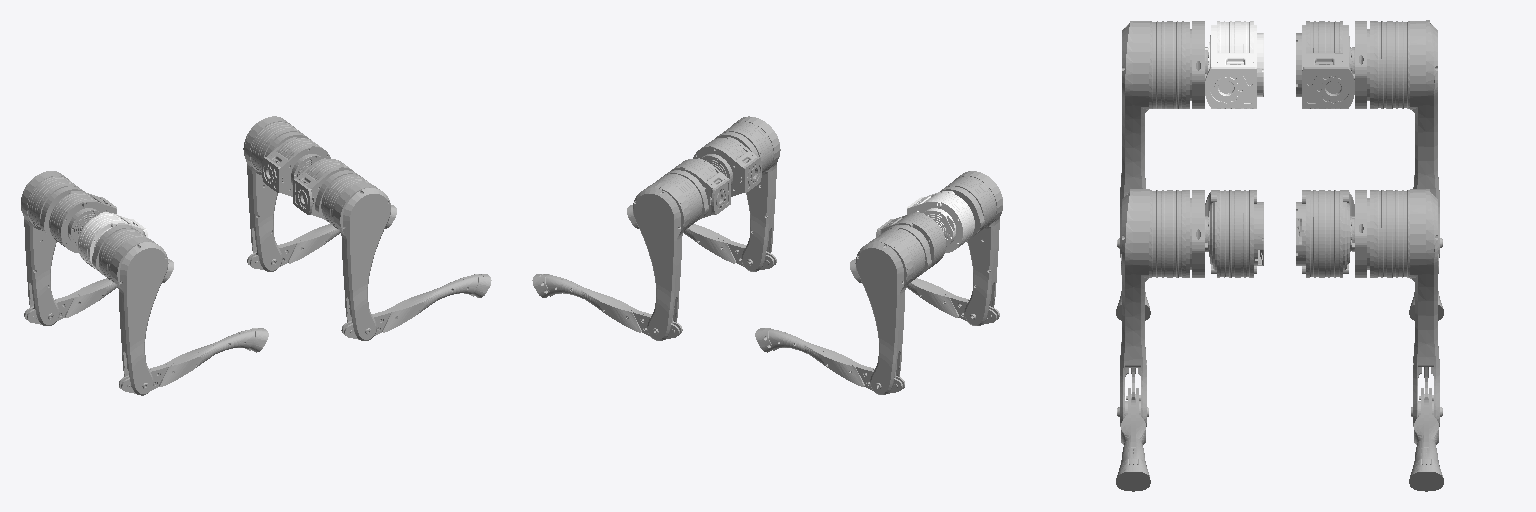
robot.urdf — dog:
<?xml version="1.0" encoding="utf-8"?>
<!-- This URDF was automaticurdf_tutorialy created by SolidWorks to URDF Exporter! Originurdf_tutorialy created by Stephen Brawner ([email redacted]) 
     Commit Version: 1.6.0-4-g7f85cfe  Build Version: 1.6.7995.38578
     For more information, please see http://wiki.ros.org/sw_urdf_exporter -->
<robot
  name="dog">
  <!-- <mujoco>
  <compiler 
    meshdir="[local-path]/isaac/t_s/legged_gym/resources/robots/TOE_dog2/stl" 
    balanceinertia="true" 
    discardvisual="false" />
  </mujoco> -->
  <link
    name="base">
    <inertial>
      <origin
        xyz="9.86379408949578E-05 -0.000228650036753486 -0.00925201672369771"
        rpy="0 0 0" />
      <mass
        value="8.5" />
      <inertia
        ixx="0.09103951" 
        ixy="0.00001899"
        ixz="0.00303368"
        iyy="0.10914641"
        iyz="-0.00001026"
        izz="0.02923472" />
    </inertial>
    <!-- diaginertia="0.109146 0.091188 0.0290862"/> -->
    <visual>
      <origin
        xyz="0 0 0"
        rpy="0 0 0" />
      <geometry>
        <mesh
          filename="../stl/base.STL" />
      </geometry>
      <material
        name="">
        <color
          rgba="0.752941176470588 0.752941176470588 0.752941176470588 1" />
      </material>
    </visual>
    <collision>
      <origin
        xyz="0 0 0"
        rpy="0 0 0" />
      <geometry>
        <box size="0.45 0.12 0.12" />
      </geometry>
    </collision>
  </link>
  <link
    name="FL_hip">
    <inertial>
      <origin
        xyz="-0.00478668991274023 1.90133511636797E-05 0.000220638398559413"
        rpy="0 0 0" />
      <mass
        value="1.06947979" />
      <inertia
        ixx="0.00055425"
        ixy="-0.00000628"
        ixz="0.00000110"
        iyy="0.00061490"
        iyz="-0.00000451"
        izz="0.00060205" />
    </inertial>
    <visual>
      <origin
        xyz="0 0 0"
        rpy="0 0 0" />
      <geometry>
        <mesh
          filename="../stl/FL_hip.STL" />
      </geometry>
      <material
        name="">
        <color
          rgba="0.752941176470588 0.752941176470588 0.752941176470588 1" />
      </material>
    </visual>
    <collision>
      <origin rpy="1.5707963267948966 0 0" xyz="0 0.09 0" />
      <geometry>
        <cylinder length="0.05" radius="0.046" />
      </geometry>
    </collision>
  </link>
  <joint
    name="FL_hip_joint"
    type="revolute">
    <origin
      xyz="0.22337 0.06 0"
      rpy="0 0 0" />
    <parent
      link="base" />
    <child
      link="FL_hip" />
    <axis
      xyz="1 0 0" />
    <limit
      lower="-1.0"
      upper="1.0"
      effort="20."
      velocity="20." />
  </joint>
  <link
    name="FL_thigh">
    <inertial>
      <origin
        xyz="-0.00231149535394877 -0.0259576229949026 -0.0356321982318665"
        rpy="0 0 0" />
      <mass
        value="1.55793203" />
      <inertia
        ixx="0.00598563"
        ixy="-0.00005968"
        ixz="-0.00028819"
        iyy="0.00570709"
        iyz="-0.00101607"
        izz="0.00145163" />
    </inertial>
    <visual>
      <origin
        xyz="0 0 0"
        rpy="0 0 0" />
      <geometry>
        <mesh
          filename="../stl/L_thigh.STL" />
      </geometry>
      <material
        name="">
        <color
          rgba="0.752941176470588 0.752941176470588 0.752941176470588 1" />
      </material>
    </visual>
    <collision>
      <origin rpy="0 1.5707963267948966 0" xyz="0 0 -0.1065" />
      <geometry>
        <box size="0.11 0.0245 0.034" />
      </geometry>
    </collision>
  </link>
  <joint
    name="FL_thigh_joint"
    type="revolute">
    <origin
      xyz="0 0.1039 0"
      rpy="0 0 0" />
    <parent
      link="FL_hip" />
    <child
      link="FL_thigh" />
    <axis
      xyz="0 1 0" />
    <limit
      lower="-1.5"
      upper="2.5"
      effort="30."
      velocity="32.0" />
  </joint>
  <link
    name="FL_calf">
    <inertial>
      <origin
        xyz="0.00602649928091619 -4.97049806039984E-05 -0.101341357290926"
        rpy="0 0 0" />
      <mass
        value="0.25295890" />
      <inertia
        ixx="0.00222364"
        ixy="0.00000006"
        ixz="0.00007904"
        iyy="0.00223396"
        iyz="-0.00000196"
        izz="0.00003386" />
    </inertial>
    <visual>
      <origin
        xyz="0 0 0"
        rpy="0 0 0" />
      <geometry>
        <mesh
          filename="../stl/calf.STL" />
      </geometry>
      <material
        name="">
        <color
          rgba="0.752941176470588 0.752941176470588 0.752941176470588 1" />
      </material>
    </visual>
    <collision>
      <origin rpy="0 -0.1 0" xyz="0.008 0 -0.08" />
      <geometry>
        <cylinder length="0.16" radius="0.0115" />
      </geometry>
    </collision>
  </link>
  <joint
    name="FL_calf_joint"
    type="revolute">
    <origin
      xyz="0 0 -0.22"
      rpy="0 0 0" />
    <parent
      link="FL_thigh" />
    <child
      link="FL_calf" />
    <axis
      xyz="0 1 0" />
    <limit
      lower="-2.5"
      upper="-0.85"
      effort="35."
      velocity="32.0" />
  </joint>
  <link
    name="FL_calflower">
    <collision>
      <origin rpy="0 -0.28  0" xyz="0 0 0.006" />
      <geometry>
        <cylinder length="0.05" radius="0.011" />
      </geometry>
    </collision>
  </link>
  <joint
    name="FL_calflower_joint"
    type="fixed">
    <origin
      xyz="0.016 0 -0.19"
      rpy="0 0.20787 0" />
    <parent
      link="FL_calf" />
    <child
      link="FL_calflower" />
    <axis
      xyz="0 0 0" />
  </joint>
  <link
    name="FL_calflower1">
    <collision>
      <origin rpy="0 0 0" xyz="0 0 0" />
      <geometry>
        <cylinder length="0.032" radius="0.0155" />
      </geometry>
    </collision>
  </link>
  <joint
    name="FL_calflower1_joint"
    type="fixed">
    <origin
      xyz="0 0 -0.03"
      rpy="0 0.2 0" />
    <parent
      link="FL_calflower" />
    <child
      link="FL_calflower1" />
    <axis
      xyz="0 0 0" />
  </joint>
  <link
    name="FL_foot">
    <inertial>
      <origin
        xyz="0 0 0"
        rpy="0 0 0" />
      <mass
        value="0.04" />
      <inertia
        ixx="9.6e-06"
        ixy="0"
        ixz="0"
        iyy="9.6e-06"
        iyz="0"
        izz="9.6e-06" />
    </inertial>
    <visual>
      <origin
        xyz="0 0 0"
        rpy="0 0 0" />
      <geometry>
        <mesh
          filename="../stl/foot.stl" />
      </geometry>
      <material
        name="">
        <color
          rgba="1 1 1 1" />
      </material>
    </visual>
    <collision>
      <origin rpy="0 0 0" xyz="-0.002 0 0" />
      <geometry>
       <sphere radius="0.022" />
      </geometry>
    </collision>
  </link>
  <joint
    name="FL_foot_joint"
    type="fixed"  dont_collapse="true">
    <origin
      xyz="0 0 -0.24"
      rpy="0 0 0" />
    <parent
      link="FL_calf" />
    <child
      link="FL_foot" />
    <axis
      xyz="0 0 0" />
  </joint>
  <link
    name="FR_hip">
    <inertial>
      <origin
        xyz="0 0 0"
        rpy="0 0 0" />
      <mass
        value="1.06947979" />
      <inertia
        ixx="0.00055425"
        ixy="0.00000628"
        ixz="-0.00000110"
        iyy="0.00061490"
        iyz="-0.00000451"
        izz="0.00060205" />
    </inertial>
    <visual>
      <origin
        xyz="0 0 0"
        rpy="0 0 0" />
      <geometry>
        <mesh
          filename="../stl/FR_hip.STL" />
      </geometry>
      <material
        name="">
        <color
          rgba="0.752941176470588 0.752941176470588 0.752941176470588 1" />
      </material>
    </visual>
    <collision>
      <origin rpy="1.5707963267948966 0 0" xyz="0 -0.09 0" />
      <geometry>
        <cylinder length="0.05" radius="0.046" />
      </geometry>
    </collision>
  </link>
  <joint
    name="FR_hip_joint"
    type="revolute">
    <origin
      xyz="0.22337 -0.06 0"
      rpy="0 0 0" />
    <parent
      link="base" />
    <child
      link="FR_hip" />
    <axis
      xyz="1 0 0" />
    <limit
      lower="-1.0"
      upper="1.0"
      effort="20."
      velocity="20." />
  </joint>
  <link
    name="FR_thigh">
    <inertial>
      <origin
        xyz="-0.00102167758546338 0.034785247828162 -0.0207384105629442"
        rpy="0 0 0" />
      <mass
        value="1.55793203" />
      <inertia
        ixx="0.00598563"
        ixy="-0.00005968"
        ixz="-0.00028819"
        iyy="0.00570709"
        iyz="-0.00101607"
        izz="0.00145163" />
    </inertial>
    <visual>
      <origin
        xyz="0 0 0"
        rpy="0 0 0" />
      <geometry>
        <mesh
          filename="../stl/R_thigh.STL" />
      </geometry>
      <material
        name="">
        <color
          rgba="0.752941176470588 0.752941176470588 0.752941176470588 1" />
      </material>
    </visual>
    <collision>
       <origin rpy="0 1.5707963267948966 0" xyz="0 0 -0.1065" />
      <geometry>
        <box size="0.11 0.0245 0.034" />
      </geometry>
    </collision>
  </link>
  <joint
    name="FR_thigh_joint"
    type="revolute">
    <origin
      xyz="0 -0.1039 0"
      rpy="0 0 0" />
    <parent
      link="FR_hip" />
    <child
      link="FR_thigh" />
    <axis
      xyz="0 1 0" />
    <limit
      lower="-1.5"
      upper="2.5"
      effort="30."
      velocity="32.0" />
  </joint>
  <link
    name="FR_calf">
    <inertial>
      <origin
        xyz="0.00602649927812829 -4.97049812005768E-05 -0.10134135729045"
        rpy="0 0 0" />
      <mass
        value="0.25295890" />
      <inertia
        ixx="0.00222364"
        ixy="0.00000006"
        ixz="0.00007904"
        iyy="0.00223396"
        iyz="-0.00000196"
        izz="0.00003386" />
    </inertial>
    <visual>
      <origin
        xyz="0 0 0"
        rpy="0 0 0" />
      <geometry>
        <mesh
          filename="../stl/calf.STL" />
      </geometry>
      <material
        name="">
        <color
          rgba="0.752941176470588 0.752941176470588 0.752941176470588 1" />
      </material>
    </visual>
    <collision>
      <origin rpy="0 -0.1 0" xyz="0.008 0 -0.08" />
      <geometry>
         <cylinder length="0.16" radius="0.0115" />
      </geometry>
    </collision>
  </link>
  <joint
    name="FR_calf_joint"
    type="revolute">
    <origin
      xyz="0 0 -0.22"
      rpy="0 0 0" />
    <parent
      link="FR_thigh" />
    <child
      link="FR_calf" />
    <axis
      xyz="0 1 0" />
    <limit
      lower="-2.5"
      upper="-0.85"
      effort="35."
      velocity="32.0" />
  </joint>
  <link
    name="FR_calflower">
    <collision>
      <origin rpy="0 -0.28  0" xyz="0 0 0.006" />
      <geometry>
        <cylinder length="0.05" radius="0.011" />
      </geometry>
    </collision>
  </link>
  <joint
    name="FR_calflower_joint"
    type="fixed">
    <origin
      xyz="0.016 0 -0.19"
      rpy="0 0.20787 0" />
    <parent
      link="FR_calf" />
    <child
      link="FR_calflower" />
    <axis
      xyz="0 0 0" />
  </joint>
  <link
    name="FR_calflower1">
    <collision>
      <origin rpy="0 0 0" xyz="0 0 0" />
      <geometry>
        <cylinder length="0.032" radius="0.0155" />
      </geometry>
    </collision>
  </link>
  <joint
    name="FR_calflower1_joint"
    type="fixed">
    <origin
      xyz="0 0 -0.03"
      rpy="0 0.2 0" />
    <parent
      link="FR_calflower" />
    <child
      link="FR_calflower1" />
    <axis
      xyz="0 0 0" />
  </joint>
  <link
    name="FR_foot">
    <inertial>
      <origin
        xyz="0 0 0"
        rpy="0 0 0" />
      <mass
        value="0.04" />
      <inertia
        ixx="9.6e-06"
        ixy="0"
        ixz="0"
        iyy="9.6e-06"
        iyz="0"
        izz="9.6e-06" />
    </inertial>
    <visual>
      <origin
        xyz="0 0 0"
        rpy="0 0 0" />
      <geometry>
        <mesh
          filename="../stl/foot.stl" />
      </geometry>
      <material
        name="">
        <color
          rgba="1 1 1 1" />
      </material>
    </visual>
    <collision>
      <origin rpy="0 0 0" xyz="-0.002 0 0" />
      <geometry>
        <sphere radius="0.022" />
      </geometry>
    </collision>
  </link>
  <joint
    name="FR_foot_joint"
    type="fixed"  dont_collapse="true">
    <origin
      xyz="0 0 -0.24"
      rpy="0 0 0" />
    <parent
      link="FR_calf" />
    <child
      link="FR_foot" />
    <axis
      xyz="0 0 0" />
  </joint>
  <link
    name="RL_hip">
    <inertial>
      <origin
        xyz="0.00478668991693643 1.87932525216594E-05 -0.000220657252609686"
        rpy="0 0 0" />
      <mass
        value="1.06947979" />
      <inertia
        ixx="0.00055425"
        ixy="0.00000628"
        ixz="0.00000109"
        iyy="0.00061490"
        iyz="0.00000450"
        izz="0.00060204" />
    </inertial>
    <visual>
      <origin
        xyz="0 0 0"
        rpy="0 0 0" />
      <geometry>
        <mesh
          filename="../stl/RL_hip.STL" />
      </geometry>
      <material
        name="">
        <color
          rgba="0.752941176470588 0.752941176470588 0.752941176470588 1" />
      </material>
    </visual>
    <collision>
      <origin rpy="1.5707963267948966 0 0" xyz="0 0.09 0" />
      <geometry>
        <cylinder length="0.05" radius="0.046" />
      </geometry>
    </collision>
  </link>
  <joint
    name="RL_hip_joint"
    type="revolute">
    <origin
      xyz="-0.22337 0.06 0"
      rpy="0 0 0" />
    <parent
      link="base" />
    <child
      link="RL_hip" />
    <axis
      xyz="1 0 0" />
    <limit
      lower="-1.0"
      upper="1.0"
      effort="20."
      velocity="20." />
  </joint>
  <link
    name="RL_thigh">
    <inertial>
      <origin
        xyz="-0.00245812847176474 -0.0259575608404084 -0.0351973722540475"
        rpy="0 0 0" />
      <mass
        value="1.55025095" />
      <inertia
        ixx="0.00568291"
        ixy="0.00005580"
        ixz="-0.00028389"
        iyy="0.00540994"
        iyz="0.00096745"
        izz="0.00144723" />
    </inertial>
    <visual>
      <origin
        xyz="0 0 0"
        rpy="0 0 0" />
      <geometry>
        <mesh
          filename="../stl/L_thigh.STL" />
      </geometry>
      <material
        name="">
        <color
          rgba="0.752941176470588 0.752941176470588 0.752941176470588 1" />
      </material>
    </visual>
    <collision>
      <origin rpy="0 1.5707963267948966 0" xyz="0 0 -0.1065" />
      <geometry>
        <box size="0.11 0.0245 0.034" />
      </geometry>
    </collision>
  </link>
  <joint
    name="RL_thigh_joint"
    type="revolute">
    <origin
      xyz="0 0.1039 0"
      rpy="0 0 0" />
    <parent
      link="RL_hip" />
    <child
      link="RL_thigh" />
    <axis
      xyz="0 1 0" />
    <limit
      lower="-1.5"
      upper="2.5"
      effort="30."
      velocity="32.0" />
  </joint>
  <link
    name="RL_calf">
    <inertial>
      <origin
        xyz="0.00602649937159078 -4.97048694773905E-05 -0.101341356161322"
        rpy="0 0 0" />
      <mass
        value="0.25295890" />
      <inertia
        ixx="0.00222364"
        ixy="0.00000006"
        ixz="0.00007904"
        iyy="0.00223396"
        iyz="-0.00000196"
        izz="0.00003386" />
    </inertial>
    <visual>
      <origin
        xyz="0 0 0"
        rpy="0 0 0" />
      <geometry>
        <mesh
          filename="../stl/calf.STL" />
      </geometry>
      <material
        name="">
        <color
          rgba="0.752941176470588 0.752941176470588 0.752941176470588 1" />
      </material>
    </visual>
    <collision>
      <origin rpy="0 -0.1 0" xyz="0.008 0 -0.08" />
      <geometry>
        <cylinder length="0.16" radius="0.0115" />
      </geometry>
    </collision>
  </link>
  <joint
    name="RL_calf_joint"
    type="revolute">
    <origin
      xyz="0 0 -0.22"
      rpy="0 0 0" />
    <parent
      link="RL_thigh" />
    <child
      link="RL_calf" />
    <axis
      xyz="0 1 0" />
    <limit
      lower="-2.5"
      upper="-0.85"
      effort="35."
      velocity="32.0" />
  </joint>
  <link
    name="RL_calflower">
    <collision>
      <origin rpy="0 -0.28  0" xyz="0 0 0.006" />
      <geometry>
        <cylinder length="0.05" radius="0.011" />
      </geometry>
    </collision>
  </link>
  <joint
    name="RL_calflower_joint"
    type="fixed">
    <origin
      xyz="0.016 0 -0.19"
      rpy="0 0.20787 0" />
    <parent
      link="RL_calf" />
    <child
      link="RL_calflower" />
    <axis
      xyz="0 0 0" />
  </joint>
  <link
    name="RL_calflower1">
   <collision>
      <origin rpy="0 0 0" xyz="0 0 0" />
      <geometry>
        <cylinder length="0.032" radius="0.0155" />
      </geometry>
    </collision>
  </link>
  <joint
    name="RL_calflower1_joint"
    type="fixed">
    <origin
      xyz="0 0 -0.03"
      rpy="0 0.2 0" />
    <parent
      link="RL_calflower" />
    <child
      link="RL_calflower1" />
    <axis
      xyz="0 0 0" />
  </joint>
  <link
    name="RL_foot">
    <inertial>
      <origin
        xyz="0 0 0"
        rpy="0 0 0" />
      <mass
        value="0.04" />
      <inertia
        ixx="9.6e-06"
        ixy="0"
        ixz="0"
        iyy="9.6e-06"
        iyz="0"
        izz="9.6e-06" />
    </inertial>
    <visual>
      <origin
        xyz="0 0 0"
        rpy="0 0 0" />
      <geometry>
        <mesh
          filename="../stl/foot.stl" />
      </geometry>
      <material
        name="">
        <color
          rgba="1 1 1 1" />
      </material>
    </visual>
    <collision>
      <origin rpy="0 0 0" xyz="-0.002 0 0" />
      <geometry>
        <sphere radius="0.022" />
      </geometry>
    </collision>
  </link>
  <joint
    name="RL_foot_joint"
    type="fixed" dont_collapse="true">
    <origin
      xyz="0 0 -0.24"
      rpy="0 0 0" />
    <parent
      link="RL_calf" />
    <child
      link="RL_foot" />
    <axis
      xyz="0 0 0" />
  </joint>
  <link
    name="RR_hip">
    <inertial>
      <origin
        xyz="0 0 0"
        rpy="0 0 0" />
      <mass
        value="1.06947979" />
      <inertia
        ixx="0.00055425"
        ixy="-0.00000628"
        ixz="-0.00000109"
        iyy="0.00061491"
        iyz="0.00000450"
        izz="0.00060204" />
    </inertial>
    <visual>
      <origin
        xyz="0 0 0"
        rpy="0 0 0" />
      <geometry>
        <mesh
          filename="../stl/RR_hip.STL" />
      </geometry>
      <material
        name="">
        <color
          rgba="1 1 1 1" />
      </material>
    </visual>
    <collision>
      <origin rpy="1.5707963267948966 0 0" xyz="0 -0.09 0" />
      <geometry>
        <cylinder length="0.05" radius="0.046" />
      </geometry>
    </collision>
  </link>
  <joint
    name="RR_hip_joint"
    type="revolute">
    <origin
      xyz="-0.22337 -0.06 0"
      rpy="0 0 0" />
    <parent
      link="base" />
    <child
      link="RR_hip" />
    <axis
      xyz="1 0 0" />
    <limit
      lower="-1.0"
      upper="1.0"
      effort="20."
      velocity="20." />
  </joint>
  <link
    name="RR_thigh">
    <inertial>
      <origin
        xyz="-0.000904252480658896 0.0347851323626063 -0.0209699339939975"
        rpy="0 0 0" />
      <mass
        value="1.55005095" />
      <inertia
        ixx="0.00568495"
        ixy="-0.00005831"
        ixz="-0.00028980"
        iyy="0.00541375"
        iyz="-0.00097460"
        izz="0.00145089" />
    </inertial>
    <visual>
      <origin
        xyz="0 0 0"
        rpy="0 0 0" />
      <geometry>
        <mesh
          filename="../stl/R_thigh.STL" />
      </geometry>
      <material
        name="">
        <color
          rgba="0.752941176470588 0.752941176470588 0.752941176470588 1" />
      </material>
    </visual>
    <collision>
      <origin rpy="0 1.5707963267948966 0" xyz="0 0 -0.1065" />
      <geometry>
        <box size="0.11 0.0245 0.034" />
      </geometry>
    </collision>
  </link>
  <joint
    name="RR_thigh_joint"
    type="revolute">
    <origin
      xyz="0 -0.1039 0"
      rpy="0 0 0" />
    <parent
      link="RR_hip" />
    <child
      link="RR_thigh" />
    <axis
      xyz="0 1 0" />
    <limit
      lower="-1.5"
      upper="2.5"
      effort="30."
      velocity="32.0" />
  </joint>
  <link
    name="RR_calf">
    <inertial>
      <origin
        xyz="0.00602649937802247 -4.97048678604894E-05 -0.101341356232684"
        rpy="0 0 0" />
      <mass
        value="0.25295890" />
      <inertia
        ixx="0.00222364"
        ixy="0.00000006"
        ixz="0.00007904"
        iyy="0.00223396"
        iyz="-0.00000196"
        izz="0.00003386" />
    </inertial>
    <visual>
      <origin
        xyz="0 0 0"
        rpy="0 0 0" />
      <geometry>
        <mesh
          filename="../stl/calf.STL" />
      </geometry>
      <material
        name="">
        <color
          rgba="0.752941176470588 0.752941176470588 0.752941176470588 1" />
      </material>
    </visual>
    <collision>
      <origin rpy="0 -0.1 0" xyz="0.008 0 -0.08" />
      <geometry>
         <cylinder length="0.16" radius="0.0115" />
      </geometry>
    </collision>
  </link>
  <joint
    name="RR_calf_joint"
    type="revolute">
    <origin
      xyz="0 0 -0.22"
      rpy="0 0 0" />
    <parent
      link="RR_thigh" />
    <child
      link="RR_calf" />
    <axis
      xyz="0 1 0" />
    <limit
      lower="-2.5"
      upper="-0.85"
      effort="35."
      velocity="32.0" />
  </joint>
  <link
    name="RR_calflower">
       <collision>
      <origin rpy="0 -0.28  0" xyz="0 0 0.006" />
      <geometry>
        <cylinder length="0.05" radius="0.011" />
      </geometry>
    </collision>
  </link>
  <joint
    name="RR_calflower_joint"
    type="fixed">
    <origin
      xyz="0.01623 0 -0.19038"
      rpy="0 0.20787 0" />
    <parent
      link="RR_calf" />
    <child
      link="RR_calflower" />
    <axis
      xyz="0 0 0" />
  </joint>
  <link
    name="RR_calflower1">
    <collision>
      <origin rpy="0 0 0" xyz="0 0 0" />
      <geometry>
        <cylinder length="0.032" radius="0.0155" />
      </geometry>
    </collision>
  </link>
  <joint
    name="RR_calflower1_joint"
    type="fixed">
    <origin
      xyz="0 0 -0.03"
      rpy="0 0.2 0" />
    <parent
      link="RR_calflower" />
    <child
      link="RR_calflower1" />
    <axis
      xyz="0 0 0" />
  </joint>
  <link
    name="RR_foot">
    <inertial>
      <origin
        xyz="0 0 0"
        rpy="0 0 0" />
      <mass
        value="0.04" />
      <inertia
        ixx="9.6e-06"
        ixy="0"
        ixz="0"
        iyy="9.6e-06"
        iyz="0"
        izz="9.6e-06" />
    </inertial>
    <visual>
      <origin
        xyz="0 0 0"
        rpy="0 0 0" />
      <geometry>
        <mesh
          filename="../stl/foot.stl" />
      </geometry>
      <material
        name="">
        <color
          rgba="1 1 1 1" />
      </material>
    </visual>
    <collision>
      <origin rpy="0 0 0" xyz="-0.002 0 0" />
      <geometry>
        <sphere radius="0.022" />
      </geometry>
    </collision>
  </link>
  <joint
    name="RR_foot_joint"
    type="fixed" dont_collapse="true">
    <origin
      xyz="0 0 -0.24"
      rpy="0 0 0" />
    <parent
      link="RR_calf" />
    <child
      link="RR_foot" />
    <axis
      xyz="0 0 0" />
  </joint>
  <link
    name="imu">
    <inertial>
      <origin
        xyz="0 0 0"
        rpy="0 0 0" />
      <mass
        value="0" />
      <inertia
        ixx="0"
        ixy="0"
        ixz="0"
        iyy="0"
        iyz="0"
        izz="0" />
    </inertial>
  </link>
  <joint
    name="imu_joint"
    type="fixed">
    <origin
      xyz="0. 0 0."
      rpy="0 0 0" />
    <parent
      link="base" />
    <child
      link="imu" />
    <axis
      xyz="0 0 0" />
  </joint>
</robot>

--- What the picture shows (computed from the rendered views, not written in the file) ---
Views: 3 orthographic renders of the robot side by side, from view 1: azimuth 30°, elevation 25°; view 2: azimuth 150°, elevation 25°; view 3: azimuth 270°, elevation 25°.
Model dog with 26 links and 25 joints (12 revolute, 13 fixed), rooted at base, posed joints at zero except 4 at the middle of their limits (FL_calf_joint = -1.68, FR_calf_joint = -1.68, RL_calf_joint = -1.68, RR_calf_joint = -1.68).
Visible links, largest first — view 1: FR_thigh, RR_thigh, RL_thigh, FL_thigh, RR_calf, FR_calf, FL_hip, RL_hip, FR_hip, RL_calf, FL_calf, RR_hip; view 2: FL_thigh, RL_thigh, RR_thigh, FR_thigh, FL_calf, RL_calf, FR_hip, RR_hip, FL_hip, RR_calf, FR_calf, RL_hip; view 3: FR_thigh, FL_thigh, RR_thigh, RL_thigh, RR_hip, RL_hip, FL_hip, FR_hip, FL_calf, FR_calf.
Boxes of the visible links, <box> form: FR_thigh: <box>315,170,390,340</box>; RR_thigh: <box>92,225,168,395</box>; RL_thigh: <box>21,171,84,325</box>; FL_thigh: <box>243,116,310,271</box>; RR_calf: <box>119,328,268,393</box>; FR_calf: <box>341,274,491,339</box>; FL_hip: <box>262,137,330,196</box>; RL_hip: <box>49,191,116,252</box>; FR_hip: <box>293,158,353,218</box>; RL_calf: <box>24,259,173,324</box>; FL_calf: <box>247,205,396,269</box>; RR_hip: <box>78,212,147,270</box>; FL_thigh: <box>633,170,708,340</box>; RL_thigh: <box>855,225,931,394</box>; RR_thigh: <box>940,171,1002,325</box>; FR_thigh: <box>715,116,780,271</box>; FL_calf: <box>532,274,682,339</box>; RL_calf: <box>755,328,904,393</box>; FR_hip: <box>693,137,761,196</box>; RR_hip: <box>907,191,974,252</box>; FL_hip: <box>670,158,730,218</box>; RR_calf: <box>850,259,999,324</box>; FR_calf: <box>627,205,776,269</box>; RL_hip: <box>876,212,945,271</box>; FR_thigh: <box>1117,189,1208,426</box>; FL_thigh: <box>1351,189,1442,426</box>; RR_thigh: <box>1117,21,1208,257</box>; RL_thigh: <box>1351,20,1442,257</box>; RR_hip: <box>1205,21,1263,108</box>; RL_hip: <box>1296,21,1354,108</box>; FL_hip: <box>1296,190,1354,277</box>; FR_hip: <box>1205,190,1263,277</box>; FL_calf: <box>1409,388,1443,491</box>; FR_calf: <box>1116,388,1150,491</box>.
Size in the robot's own frame: 0.75 by 0.3659 by 0.2901 metres.
Meshes: 9 distinct files referenced, 12 mesh visuals loaded (7 binary STL); not drawn: 5 (reference not matched to a file when rendering).
